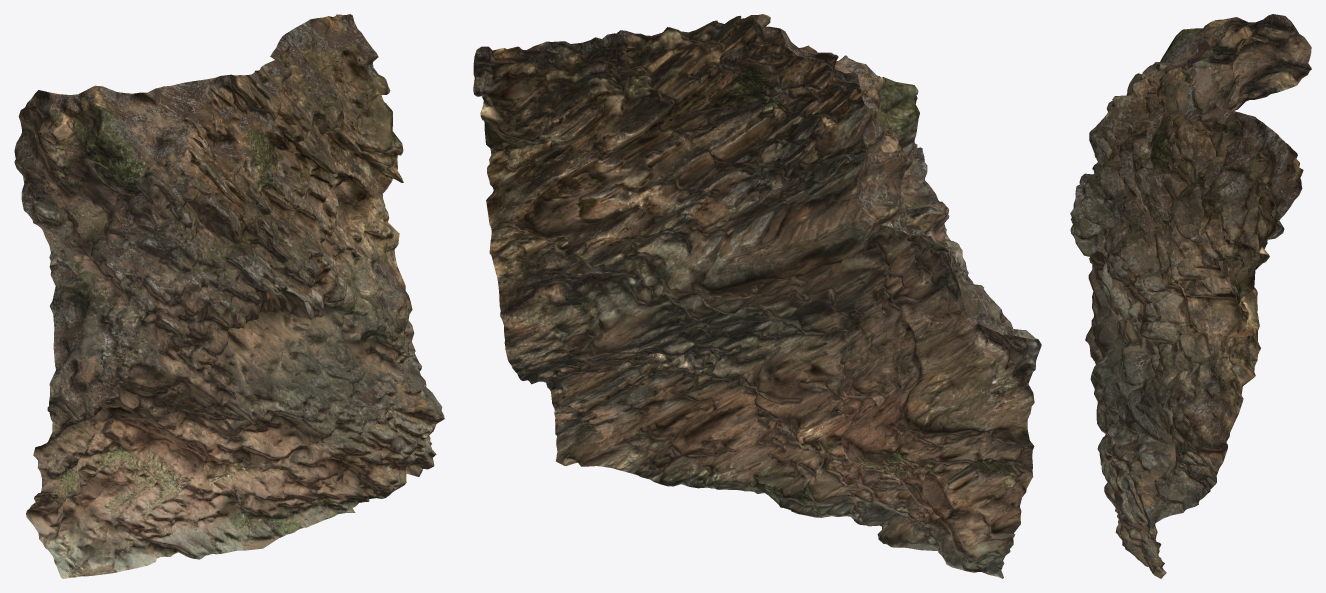
Rendered from cliff_mountainside.glb.
3 renders of one model, left to right at view 1: azimuth 30°, elevation 25°; view 2: azimuth 150°, elevation 25°; view 3: azimuth 270°, elevation 25°, orthographic. The views are drawn at different scales.
Visible parts, largest first — view 1: mountainside_mesh; view 2: mountainside_mesh; view 3: mountainside_mesh.
Part boxes in pixels (x1,y1,x2,y2): mountainside_mesh: [14, 14, 444, 578]; mountainside_mesh: [473, 14, 1041, 578]; mountainside_mesh: [1070, 14, 1311, 578].
Size of the model in its own units: 10.2 by 10.52 by 5.25.
1 material, 1 textured.
